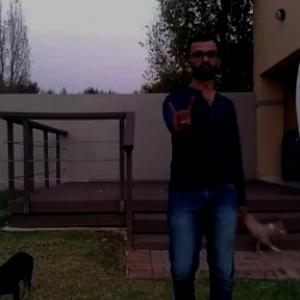takeoff-hand: (158, 90, 201, 142)
